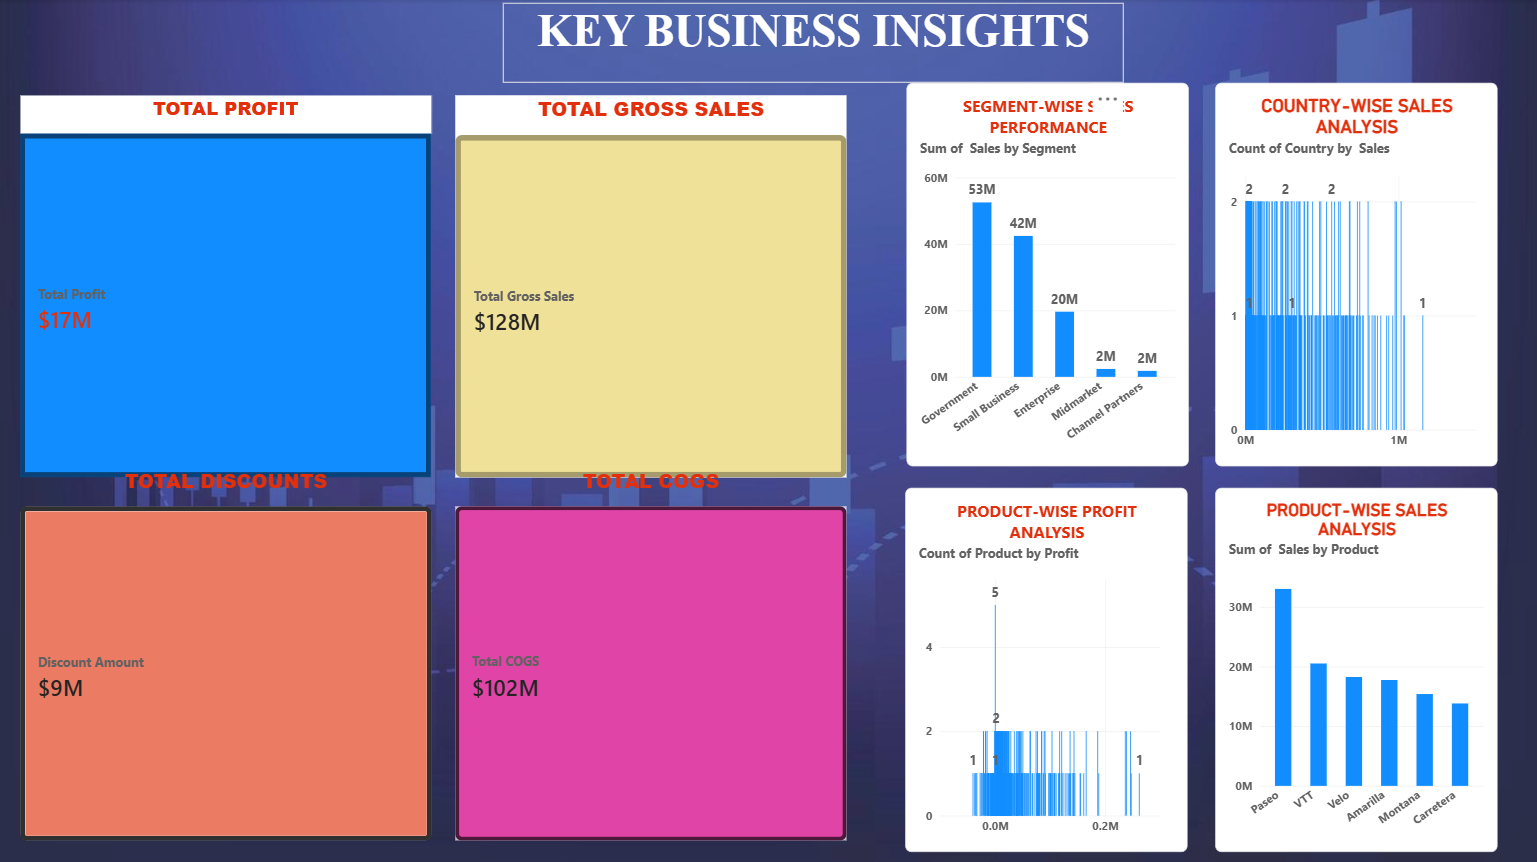

The dashboard page shown, as its layout file describes it:
{"tool":"powerbi","page":{"name":"Financial Overview","canvas":[1920,1080],"ordinal":0},"visuals":[{"type":"cardVisual","title":"TOTAL PROFIT","fields":{"Data":["financials.Total Profit"]},"box":[26.7,43.3,512.8,476.2],"z":0},{"type":"cardVisual","title":"TOTAL GROSS SALES","fields":{"Data":["financials.Total Gross Sales"]},"box":[566.7,43.3,488.3,476.7],"z":1000},{"type":"cardVisual","title":"TOTAL DISCOUNTS","fields":{"Data":["financials.Discount Amount"]},"box":[26.7,540,513.3,466.7],"z":2000},{"type":"cardVisual","title":"TOTAL COGS","fields":{"Data":["financials.Total COGS"]},"box":[566.7,540,488.3,466.7],"z":3000},{"type":"clusteredColumnChart","title":"SEGMENT-WISE SALES PERFORMANCE","fields":{"Category":["financials.Segment"],"Y":["Sum(financials. Sales)"]},"box":[1130,18.3,352,478],"z":4000},{"type":"clusteredColumnChart","title":"PRODUCT-WISE PROFIT ANALYSIS","fields":{"Category":["financials.Profit"],"Y":["CountNonNull(financials.Product)"]},"box":[1130.2,552.9,352,454],"z":5000},{"type":"clusteredColumnChart","title":"COUNTRY-WISE SALES ANALYSIS","fields":{"Category":["financials. Sales"],"Y":["CountNonNull(financials.Country)"]},"box":[1516.7,18.3,352,478],"z":6000},{"type":"clusteredColumnChart","title":"PRODUCT-WISE SALES ANALYSIS","fields":{"Category":["financials.Product"],"Y":["Sum(financials. Sales)"]},"box":[1517,553,352,454],"z":7000}]}

Visuals, with their boxes in screenshot pixels (x1, y1, x2, y2), scaled from the page's 1920x1080 canvas onto the 1537x862 screenshot:
"TOTAL PROFIT" cardVisual: 21 35 432 415
"TOTAL GROSS SALES" cardVisual: 454 35 845 415
"TOTAL DISCOUNTS" cardVisual: 21 431 432 803
"TOTAL COGS" cardVisual: 454 431 845 803
"SEGMENT-WISE SALES PERFORMANCE" clusteredColumnChart: 905 15 1186 396
"PRODUCT-WISE PROFIT ANALYSIS" clusteredColumnChart: 905 441 1187 804
"COUNTRY-WISE SALES ANALYSIS" clusteredColumnChart: 1214 15 1496 396
"PRODUCT-WISE SALES ANALYSIS" clusteredColumnChart: 1214 441 1496 804
